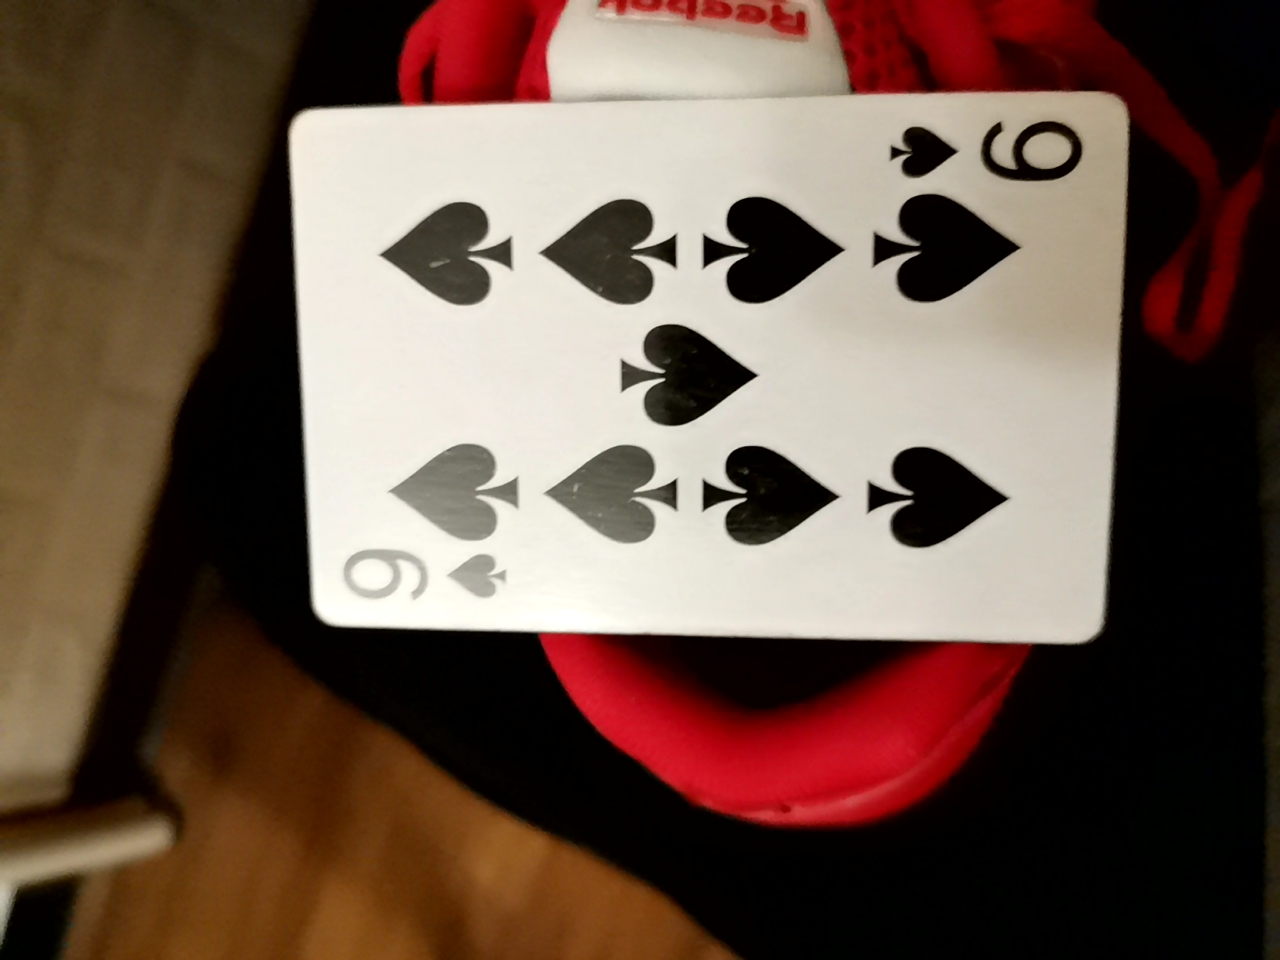ht 9: (262, 103, 1110, 643)
